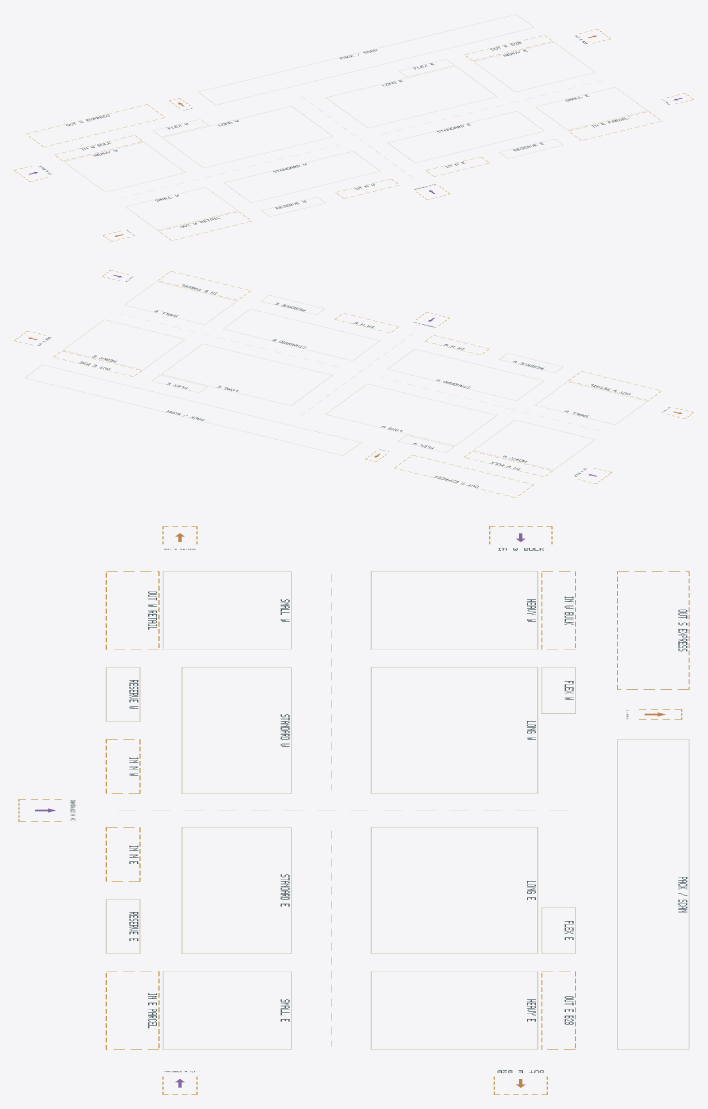
The model's file is floor-markings.glb.
3 views of the same model, one above another, from view 1: azimuth 30°, elevation 25°; view 2: azimuth 150°, elevation 25°; view 3: azimuth 270°, elevation 25° (orthographic). The views are drawn at different scales.
Visible parts, largest first — view 1: floor-markings__batch_33; view 2: floor-markings__batch_33; view 3: floor-markings__batch_33.
Part boxes in pixels (left/top/right/bottom): floor-markings__batch_33: left=198, top=14, right=533, bottom=104; floor-markings__batch_33: left=25, top=364, right=361, bottom=455; floor-markings__batch_33: left=617, top=739, right=689, bottom=1049.
Bounding box in the file's own units: 142 × 0.001 × 70.91.
